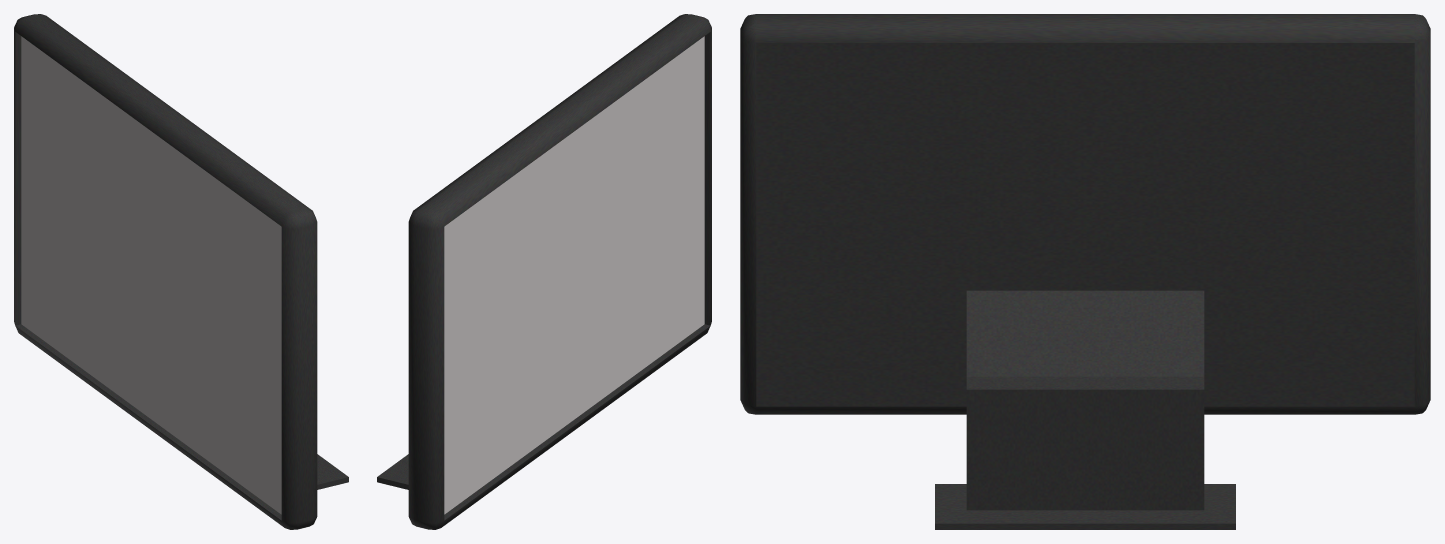
Rendered from ComputerOnScreen.FBX.
3 views of the same model, side by side, from view 1: azimuth 30°, elevation 25°; view 2: azimuth 150°, elevation 25°; view 3: azimuth 270°, elevation 25° (orthographic). The views are drawn at different scales.
Parts seen in each view (by area): view 1: ComputerOn; view 2: ComputerOn; view 3: ComputerOn.
Boxes of the visible parts, box(x1,y1,x2,y2) form: ComputerOn: box(14, 14, 348, 529); ComputerOn: box(377, 14, 711, 529); ComputerOn: box(740, 14, 1430, 529).
Size of the model in its own units: 5.81 by 14.08 by 20.12.
